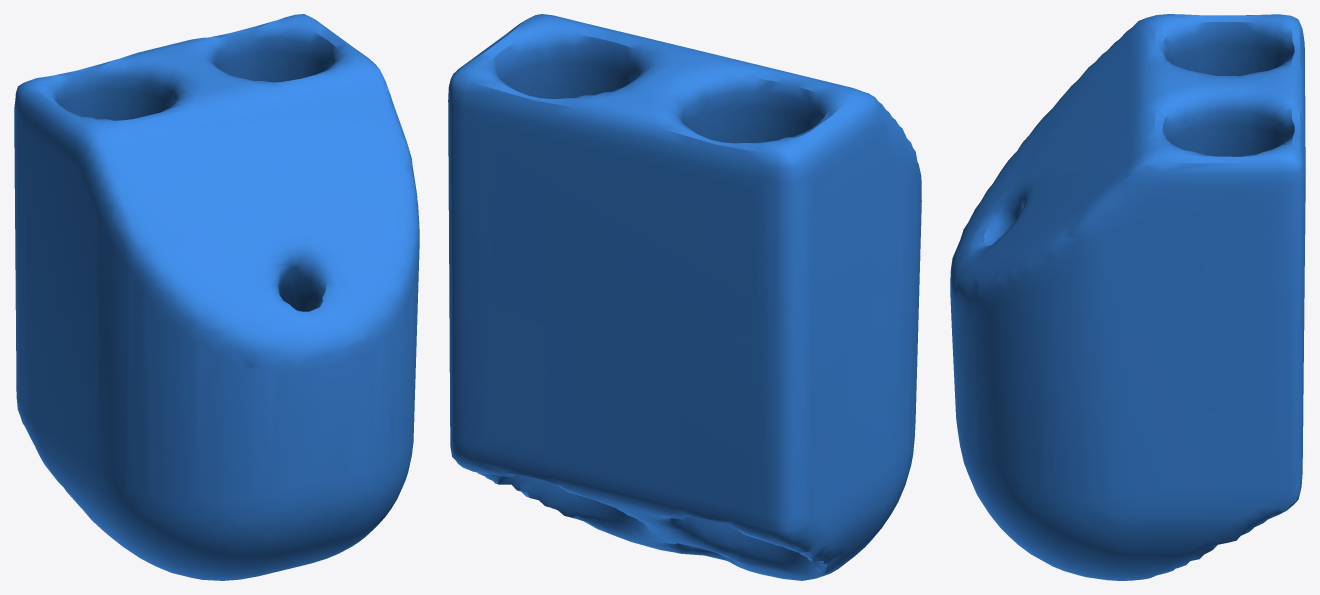
Rendered from right_finger4_upper.glb.
3 renders of one model, left to right at view 1: azimuth 30°, elevation 25°; view 2: azimuth 150°, elevation 25°; view 3: azimuth 270°, elevation 25°, orthographic. The views are drawn at different scales.
Parts seen in each view (by area): view 1: right_finger4_upper; view 2: right_finger4_upper; view 3: right_finger4_upper.
Boxes of the visible parts, box(x1,y1,x2,y2) form: right_finger4_upper: box(14, 14, 419, 580); right_finger4_upper: box(448, 14, 921, 580); right_finger4_upper: box(950, 14, 1305, 580).
Size of the model in its own units: 0.0102 by 0.0146 by 0.01.
1 material, 1 textured.
